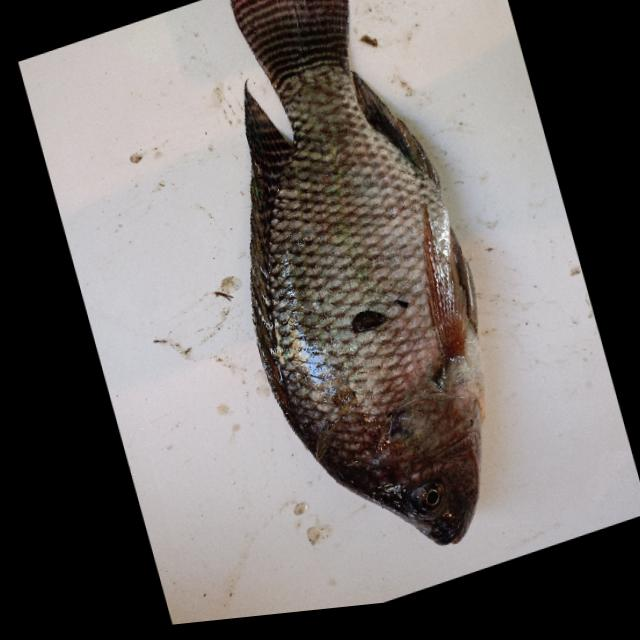Tilapia: (162, 0, 538, 603)
